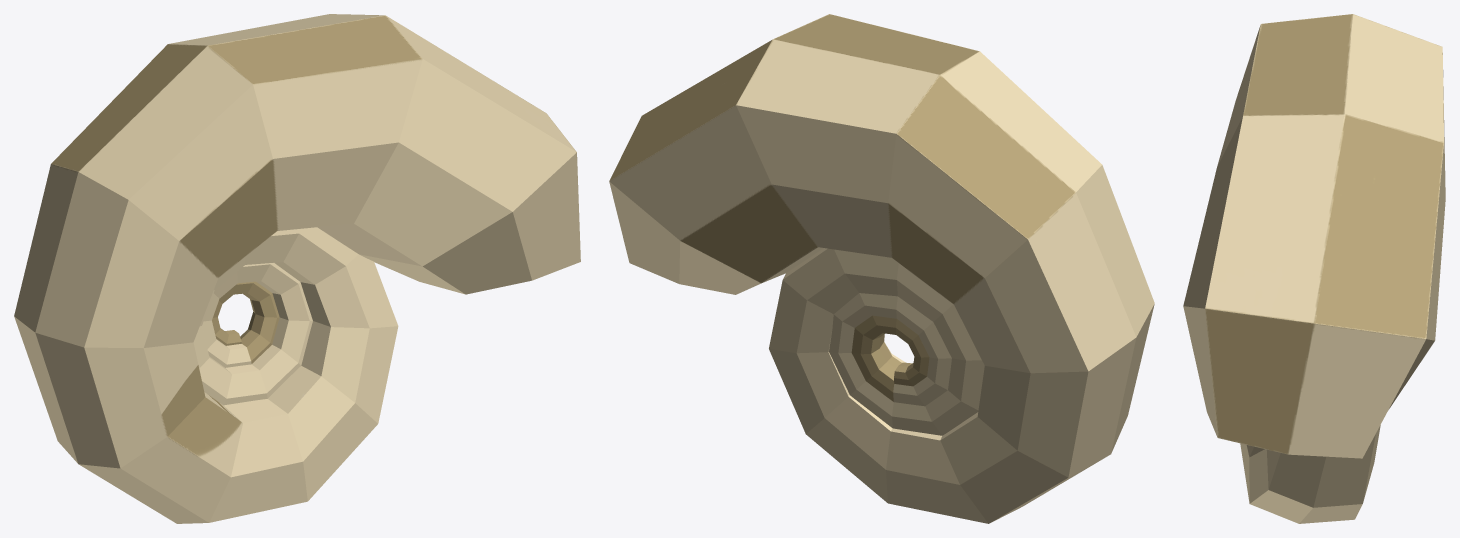
File: caracol  (1).fbx
The picture shows the model from 3 angles, left to right: view 1: azimuth 30°, elevation 25°; view 2: azimuth 150°, elevation 25°; view 3: azimuth 270°, elevation 25°; orthographic projection. The views are drawn at different scales.
Parts seen in each view (by area): view 1: Vuelta_04, Vuelta_03, Vuelta_02, Vuelta_01; view 2: Vuelta_04, Vuelta_03, Vuelta_02, Vuelta_01; view 3: Vuelta_04, Vuelta_03.
Boxes of the visible parts, x1=… form: Vuelta_04: x1=14, y1=14, x2=580, y2=523; Vuelta_03: x1=193, y1=227, x2=398, y2=500; Vuelta_02: x1=202, y1=263, x2=312, y2=398; Vuelta_01: x1=212, y1=281, x2=279, y2=363; Vuelta_04: x1=609, y1=14, x2=1154, y2=523; Vuelta_03: x1=769, y1=248, x2=984, y2=502; Vuelta_02: x1=829, y1=293, x2=951, y2=427; Vuelta_01: x1=851, y1=315, x2=929, y2=401; Vuelta_04: x1=1183, y1=14, x2=1445, y2=503; Vuelta_03: x1=1249, y1=425, x2=1380, y2=523.
Size of the model in its own units: 213 by 180 by 88.74.
1 material, 1 textured.
